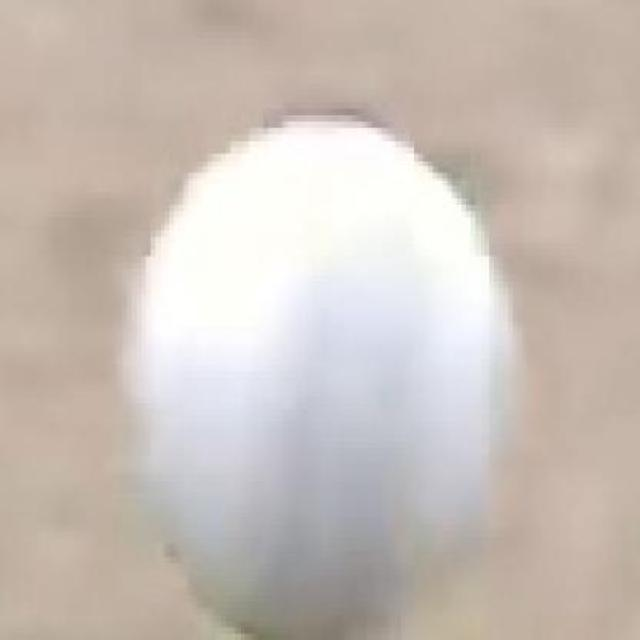Cricket ball: (112, 104, 533, 640)
